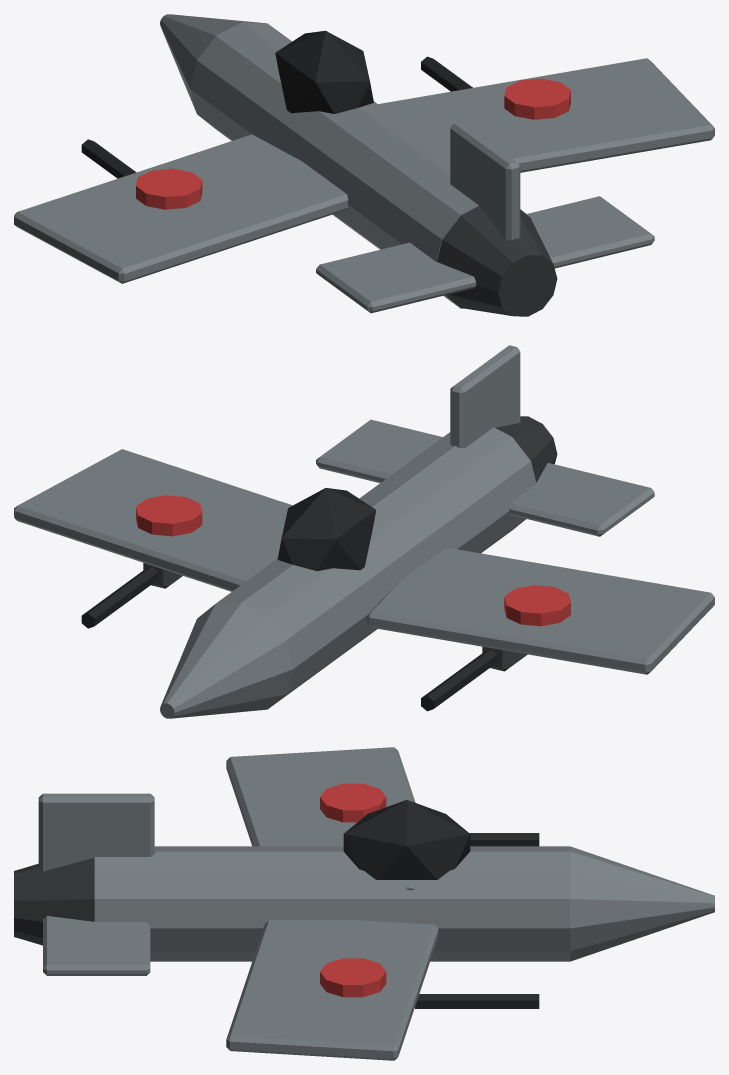
The picture shows the model from 3 angles, top to bottom: view 1: azimuth 30°, elevation 25°; view 2: azimuth 150°, elevation 25°; view 3: azimuth 270°, elevation 25°; orthographic projection. The views are drawn at different scales.
Parts seen in each view (by area): view 1: plane; view 2: plane; view 3: plane.
Part boxes in pixels (bbox=[...]): plane: bbox=[14, 14, 714, 316]; plane: bbox=[14, 345, 714, 718]; plane: bbox=[14, 747, 714, 1060].
Size of the model in its own units: 1.73 by 0.43 by 1.7.
1 material, 1 textured.
